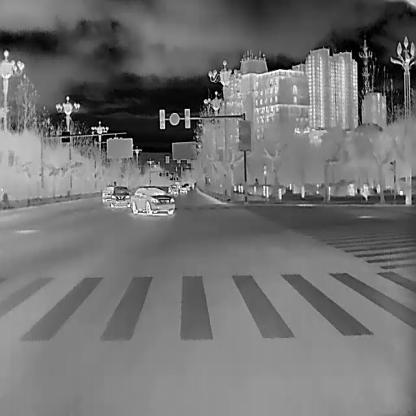car: (130, 186, 175, 216), (109, 185, 131, 209), (101, 185, 115, 203), (169, 182, 178, 195), (179, 185, 187, 195), (183, 182, 189, 191)
